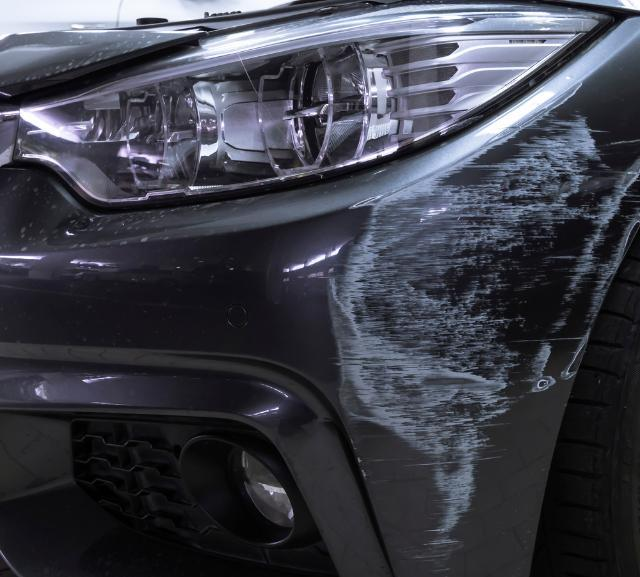scratch: (330, 79, 640, 574)
